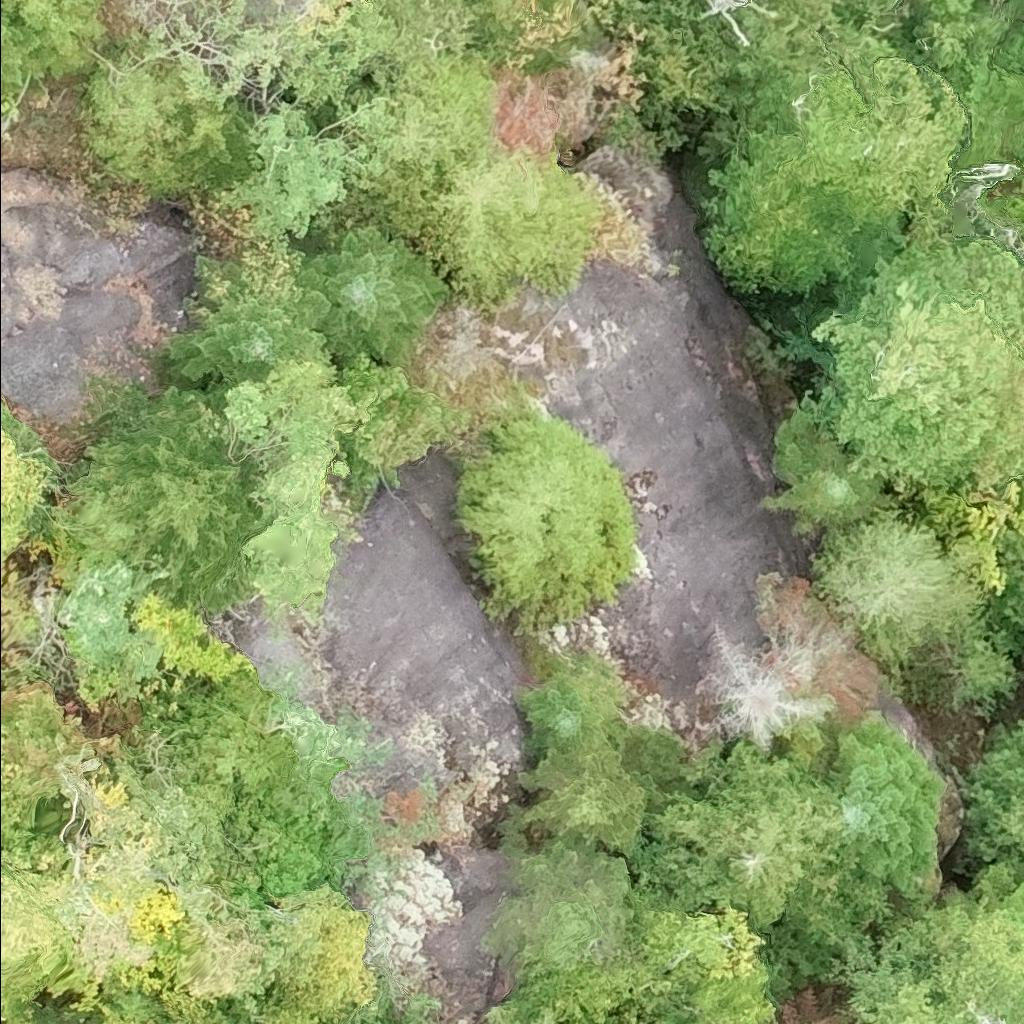crown: (714, 35, 967, 292), (800, 238, 1023, 485), (54, 381, 269, 616), (457, 385, 634, 629), (657, 745, 845, 927), (808, 509, 981, 675), (831, 892, 1023, 1023), (162, 248, 330, 388), (824, 708, 945, 900), (489, 838, 634, 983), (298, 226, 444, 367), (501, 747, 666, 863), (767, 402, 899, 538), (705, 622, 829, 755), (513, 672, 618, 762), (0, 399, 54, 558), (0, 0, 107, 75), (0, 10, 48, 116), (484, 1001, 572, 1023), (354, 1010, 397, 1023)
